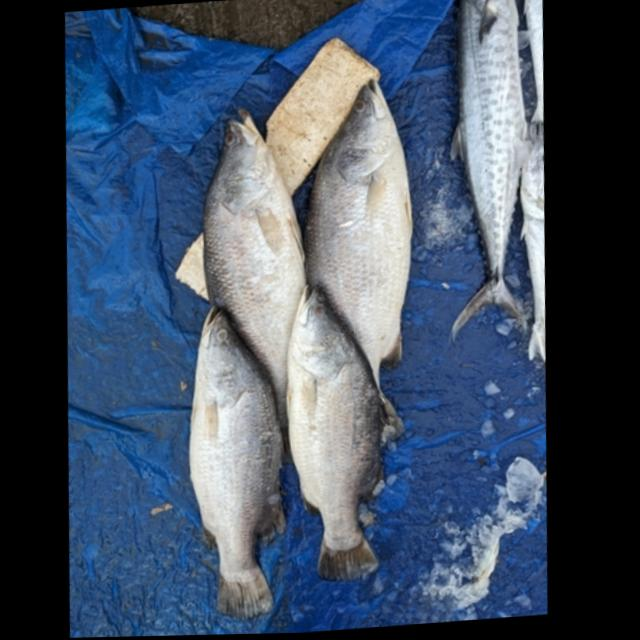Seabass: (285, 74, 432, 450), (184, 103, 322, 439), (173, 297, 299, 621), (273, 281, 405, 585)
